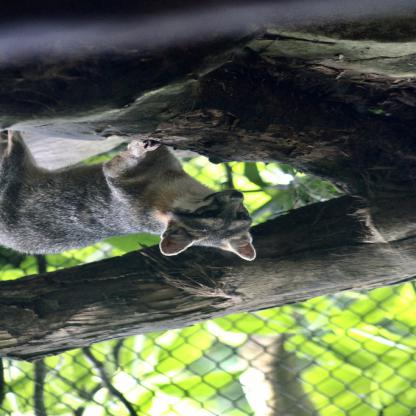zorro: (1, 130, 261, 262)
